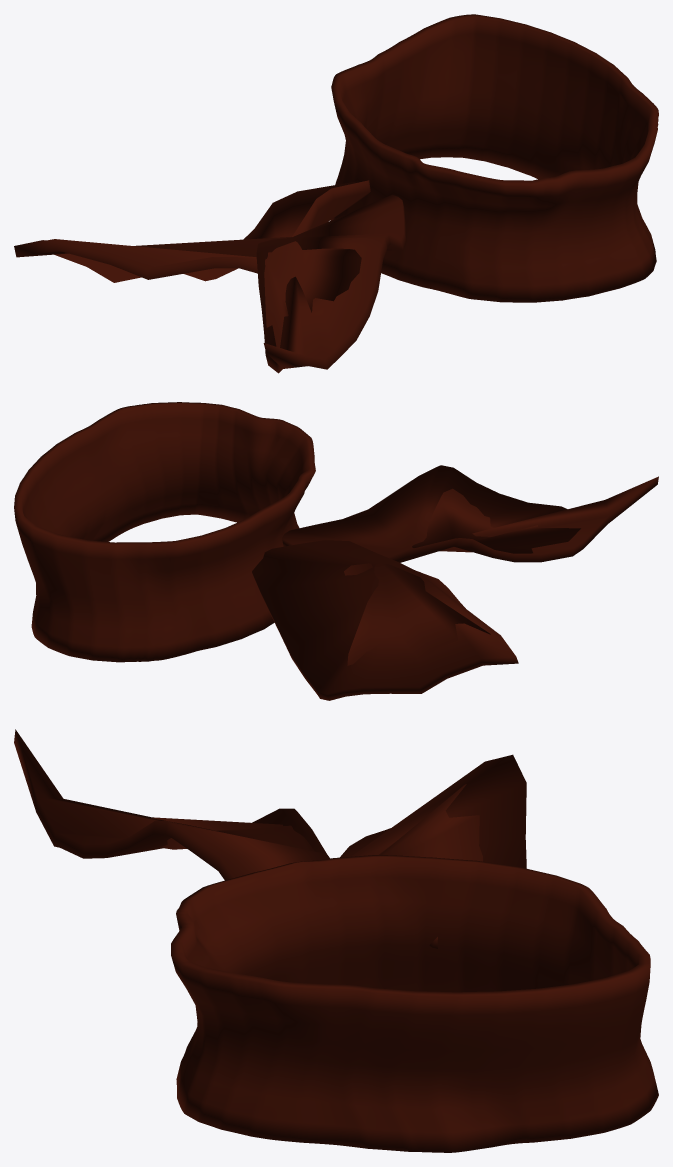
File: blindfold.fbx
3 views of the same model, one above another, from view 1: azimuth 30°, elevation 25°; view 2: azimuth 150°, elevation 25°; view 3: azimuth 270°, elevation 25° (orthographic). The views are drawn at different scales.
Visible parts, largest first — view 1: Cylinder, Cylinder.002, Cylinder.001; view 2: Cylinder, Cylinder.001, Cylinder.002; view 3: Cylinder, Cylinder.002, Cylinder.001.
Boxes of the visible parts, x1,y1,x2,y2 form: Cylinder: [330, 14, 658, 302]; Cylinder.002: [256, 194, 406, 373]; Cylinder.001: [14, 180, 370, 282]; Cylinder: [14, 402, 315, 662]; Cylinder.001: [252, 540, 518, 700]; Cylinder.002: [282, 465, 658, 562]; Cylinder: [171, 855, 658, 1152]; Cylinder.002: [14, 729, 329, 880]; Cylinder.001: [340, 754, 526, 948].
Size of the model in its own units: 111 by 32.02 by 91.59.
